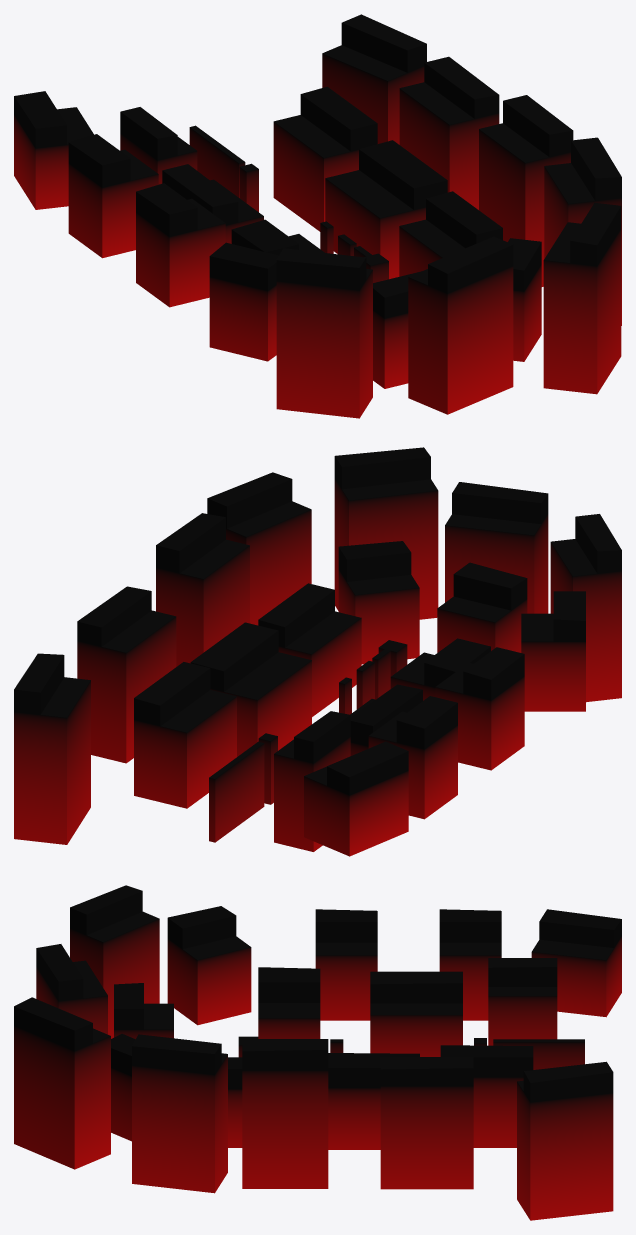
File: nivel.fbx
3 views of the same model, one above another, from view 1: azimuth 30°, elevation 25°; view 2: azimuth 150°, elevation 25°; view 3: azimuth 270°, elevation 25° (orthographic). The views are drawn at different scales.
Parts seen in each view (by area): view 1: pPlane43, pPlane42, pPlane45, pPlane46, pPlane47, pPlane32, pPlane34, pPlane36, pPlane48, pPlane37, pPlane39, pPlane49 (+9 smaller); view 2: pPlane48, pPlane34, pPlane45, pPlane47, pPlane46, pPlane43, pPlane49, pPlane32, pPlane44, pPlane42, pPlane41, pPlane36 (+12 smaller); view 3: pPlane48, pPlane44, pPlane45, pPlane46, pPlane47, pPlane39, pPlane42, pPlane31, pPlane49, pPlane36, pPlane35, pPlane34 (+8 smaller).
Boxes of the visible parts, bbox=[...] form: pPlane43: bbox=[408, 236, 513, 414]; pPlane42: bbox=[276, 248, 372, 418]; pPlane45: bbox=[543, 203, 621, 394]; pPlane46: bbox=[479, 95, 573, 286]; pPlane47: bbox=[399, 56, 499, 209]; pPlane32: bbox=[325, 140, 447, 279]; pPlane34: bbox=[273, 86, 377, 231]; pPlane36: bbox=[136, 183, 225, 307]; pPlane48: bbox=[322, 14, 426, 144]; pPlane37: bbox=[68, 134, 158, 258]; pPlane39: bbox=[209, 242, 278, 361]; pPlane49: bbox=[14, 91, 93, 209]; pPlane48: bbox=[14, 653, 90, 844]; pPlane34: bbox=[134, 662, 236, 808]; pPlane45: bbox=[334, 447, 438, 619]; pPlane47: bbox=[77, 586, 176, 763]; pPlane46: bbox=[156, 513, 249, 666]; pPlane43: bbox=[445, 482, 548, 613]; pPlane49: bbox=[304, 741, 408, 856]; pPlane32: bbox=[190, 622, 311, 756]; pPlane44: bbox=[207, 472, 311, 625]; pPlane42: bbox=[550, 514, 621, 702]; pPlane41: bbox=[338, 541, 419, 664]; pPlane36: bbox=[435, 647, 524, 770]; pPlane48: bbox=[517, 1061, 613, 1220]; pPlane44: bbox=[132, 1034, 227, 1193]; pPlane45: bbox=[14, 997, 110, 1169]; pPlane46: bbox=[242, 1039, 328, 1188]; pPlane47: bbox=[380, 1057, 473, 1189]; pPlane39: bbox=[167, 906, 251, 1025]; pPlane42: bbox=[70, 885, 159, 1038]; pPlane31: bbox=[370, 971, 462, 1056]; pPlane49: bbox=[531, 909, 621, 1017]; pPlane36: bbox=[315, 909, 377, 1020]; pPlane35: bbox=[488, 958, 557, 1045]; pPlane34: bbox=[440, 1045, 533, 1147].
Bounding box in the file's own units: 126 × 57.59 × 186.
